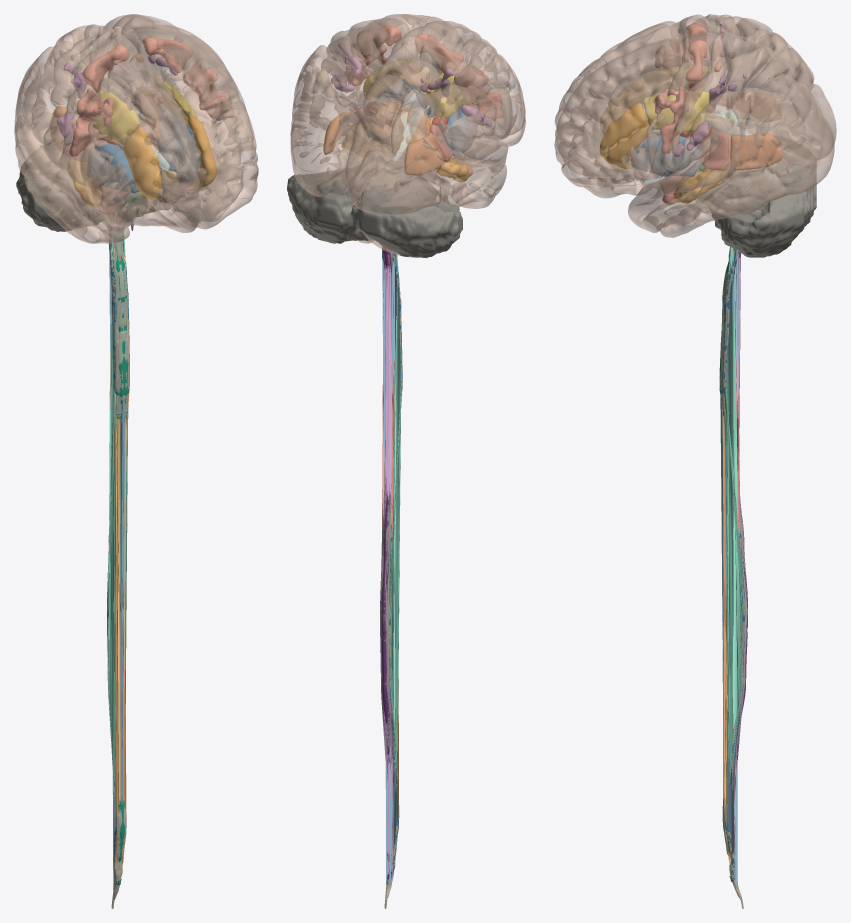
File: modelA.glb
The picture shows the model from 3 angles, left to right: view 1: azimuth 30°, elevation 25°; view 2: azimuth 150°, elevation 25°; view 3: azimuth 270°, elevation 25°; orthographic projection. The views are drawn at different scales.
Parts seen in each view (by area): view 1: 外壳_全脑仿真, 小脑皮质§BR_aal_merged_095, 脊髓外壳§SC_cord_shell, 脊髓小脑前束左§SC_cordTr_06, 中央前回左§BR_aal_001, 中央前回右§BR_aal_002, 前放射冠左§TR_JHU_ACR_L, 前索§SC_cord_VF, 脊髓丘脑束左§SC_cordTr_12, 壳核左§BR_aal_077, 上放射冠左§TR_JHU_SCR_L, 皮质脊髓前束左§SC_cordTr_22 (+12 smaller); view 2: 外壳_全脑仿真, 小脑皮质§BR_aal_merged_095, 脊髓小脑前束左§SC_cordTr_06, 脊髓外壳§SC_cord_shell, 中央前回左§BR_aal_001, 皮质脊髓侧束左§SC_cordTr_04, 后索§SC_cord_DC, 楔束左§SC_cordTr_02, 丘脑后辐射左§TR_JHU_PTR_L, 中央前回右§BR_aal_002, 薄束左§SC_cordTr_00, 皮质脊髓侧束右§SC_cordTr_05 (+10 smaller); view 3: 外壳_全脑仿真, 小脑皮质§BR_aal_merged_095, 脊髓小脑前束右§SC_cordTr_07, 脊髓外壳§SC_cord_shell, 前放射冠右§TR_JHU_ACR_R, 皮质脊髓侧束右§SC_cordTr_05, 中央前回右§BR_aal_002, 丘脑后辐射右§TR_JHU_PTR_R, 壳核右§BR_aal_078, 上放射冠右§TR_JHU_SCR_R, 海马右§BR_aal_042, 前庭脊髓束右§SC_cordTr_19 (+7 smaller).
Boxes of the visible parts, box(x1,y1,x2,y2) form: 外壳_全脑仿真: box(14, 14, 258, 243); 小脑皮质§BR_aal_merged_095: box(16, 142, 169, 231); 脊髓外壳§SC_cord_shell: box(107, 230, 129, 908); 脊髓小脑前束左§SC_cordTr_06: box(107, 242, 116, 796); 中央前回左§BR_aal_001: box(70, 48, 121, 156); 中央前回右§BR_aal_002: box(155, 38, 232, 119); 前放射冠左§TR_JHU_ACR_L: box(123, 127, 161, 200); 前索§SC_cord_VF: box(115, 230, 128, 870); 脊髓丘脑束左§SC_cordTr_12: box(113, 243, 118, 869); 壳核左§BR_aal_077: box(88, 143, 139, 193); 上放射冠左§TR_JHU_SCR_L: box(92, 90, 140, 145); 皮质脊髓前束左§SC_cordTr_22: box(118, 308, 123, 863); 外壳_全脑仿真: box(290, 14, 525, 257); 小脑皮质§BR_aal_merged_095: box(287, 147, 462, 258); 脊髓小脑前束左§SC_cordTr_06: box(389, 253, 402, 785); 脊髓外壳§SC_cord_shell: box(380, 246, 402, 908); 中央前回左§BR_aal_001: box(427, 35, 503, 120); 皮质脊髓侧束左§SC_cordTr_04: box(389, 260, 398, 884); 后索§SC_cord_DC: box(381, 246, 391, 880); 楔束左§SC_cordTr_02: box(384, 265, 394, 867); 丘脑后辐射左§TR_JHU_PTR_L: box(404, 132, 444, 175); 中央前回右§BR_aal_002: box(345, 25, 392, 85); 薄束左§SC_cordTr_00: box(386, 266, 390, 874); 皮质脊髓侧束右§SC_cordTr_05: box(380, 258, 387, 884); 外壳_全脑仿真: box(554, 14, 836, 237); 小脑皮质§BR_aal_merged_095: box(706, 142, 816, 257); 脊髓小脑前束右§SC_cordTr_07: box(722, 247, 744, 777); 脊髓外壳§SC_cord_shell: box(719, 247, 747, 908); 前放射冠右§TR_JHU_ACR_R: box(599, 103, 649, 169); 皮质脊髓侧束右§SC_cordTr_05: box(727, 254, 744, 887); 中央前回右§BR_aal_002: box(655, 44, 704, 153); 丘脑后辐射右§TR_JHU_PTR_R: box(730, 133, 782, 170); 壳核右§BR_aal_078: box(633, 135, 701, 176); 上放射冠右§TR_JHU_SCR_R: box(643, 90, 709, 132); 海马右§BR_aal_042: box(674, 134, 730, 203); 前庭脊髓束右§SC_cordTr_19: box(722, 409, 726, 798).
Size of the model in its own units: 13.98 by 61.24 by 17.72.
